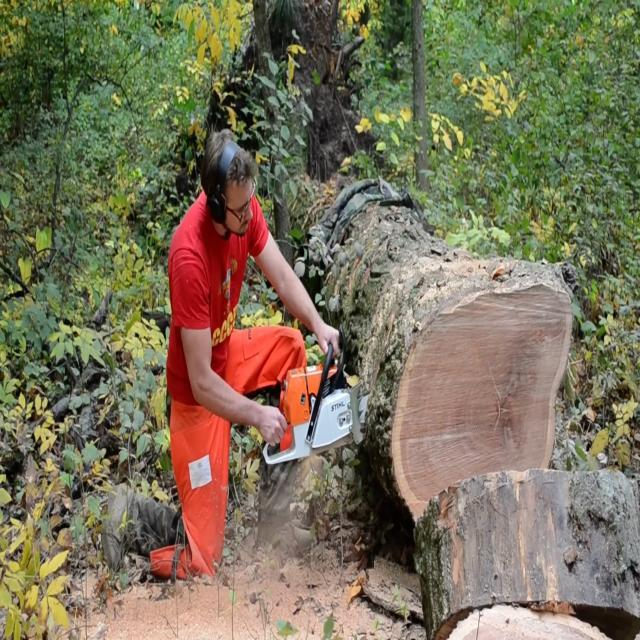Chainsaw: (250, 320, 395, 471)
